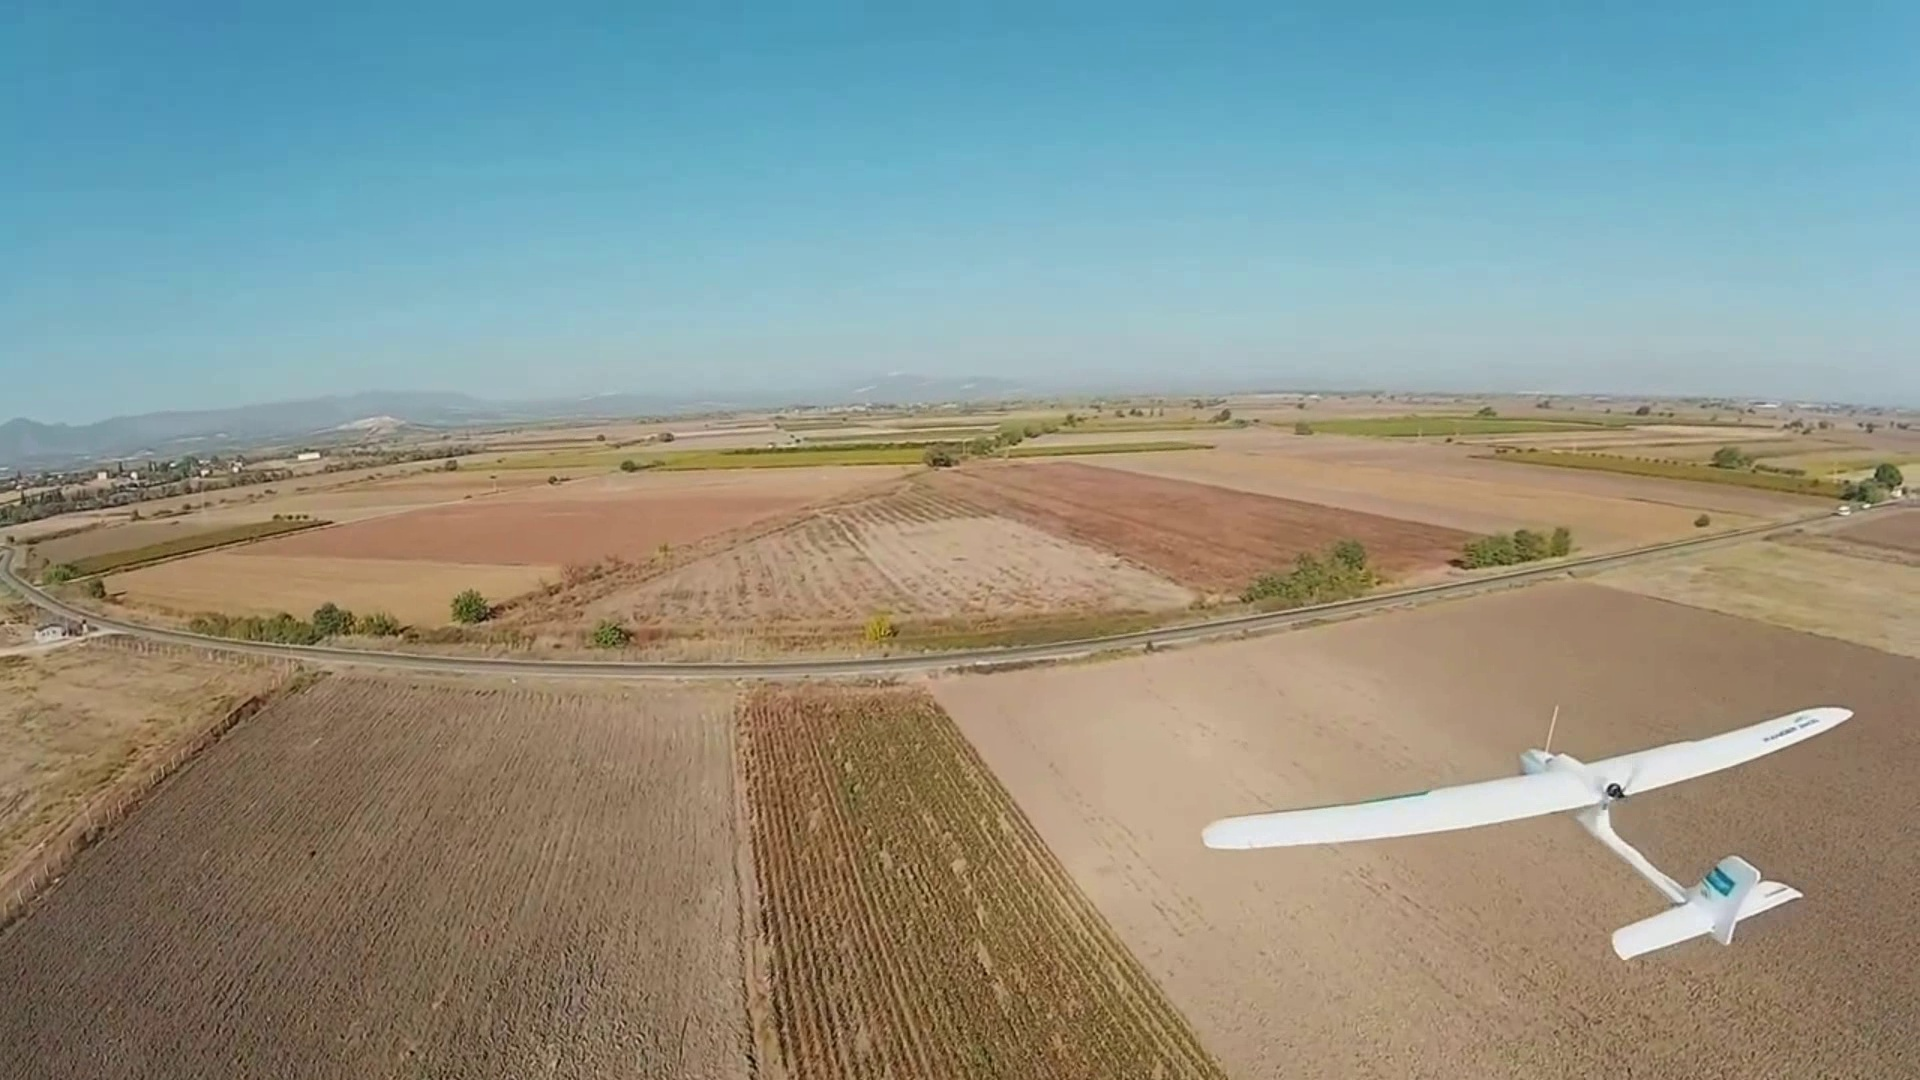airplane: (1203, 702, 1854, 960)
